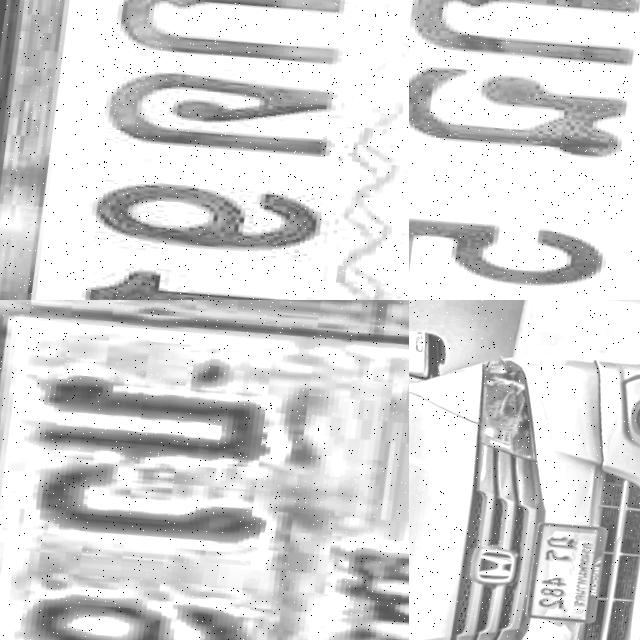license-plate: (0, 300, 409, 640), (0, 0, 409, 300), (409, 0, 640, 300), (522, 518, 613, 632)
